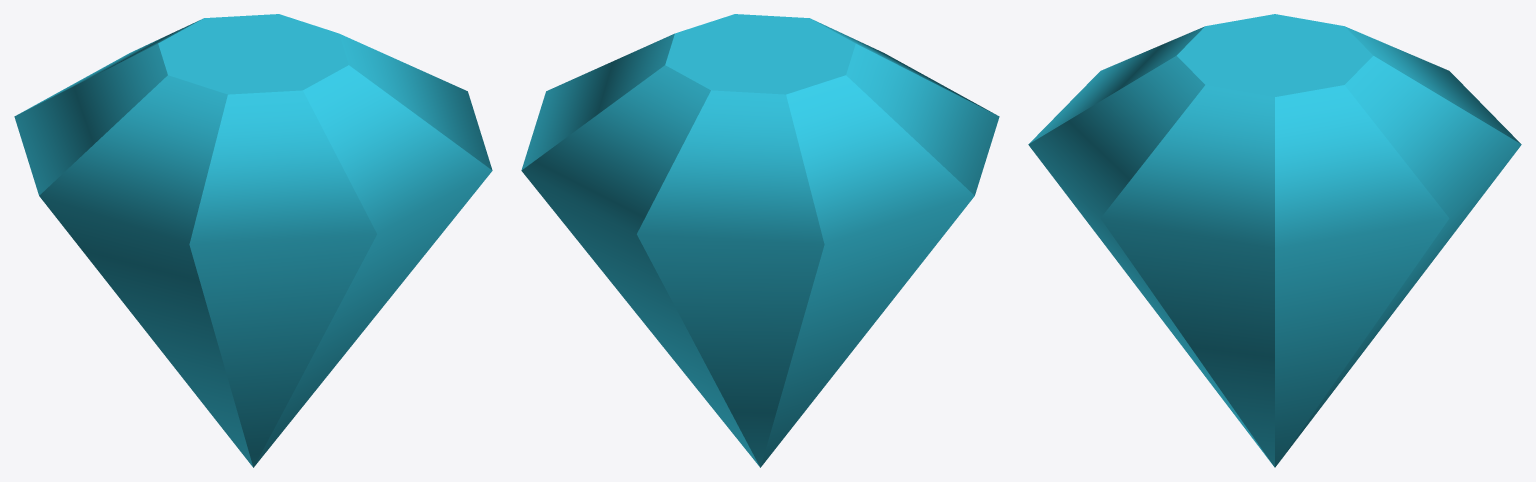
File: diamond.fbx
3 views of the same model, side by side, from view 1: azimuth 30°, elevation 25°; view 2: azimuth 150°, elevation 25°; view 3: azimuth 270°, elevation 25° (orthographic).
Visible parts, largest first — view 1: pCone1; view 2: pCone1; view 3: pCone1.
Boxes of the visible parts, x1,y1,x2,y2 form: pCone1: (14, 14, 492, 467); pCone1: (521, 14, 999, 467); pCone1: (1028, 14, 1521, 467).
Size of the model in its own units: 200 by 184 by 200.
